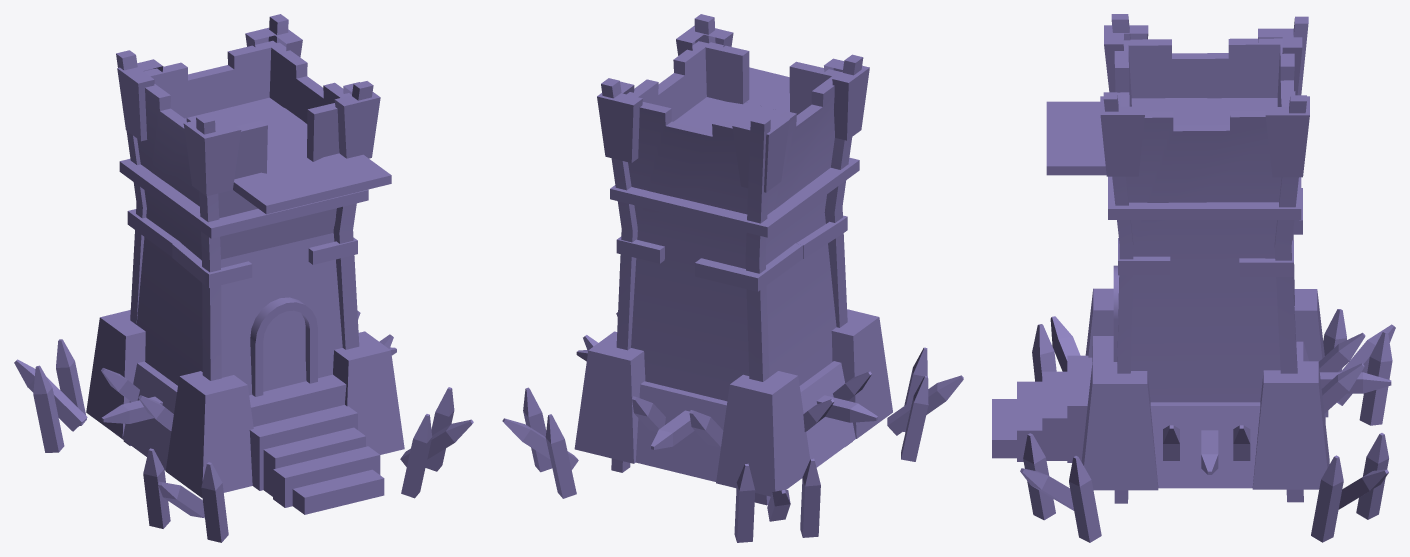
The model's file is Tower_model01.fbx.
The picture shows the model from 3 angles, left to right: view 1: azimuth 30°, elevation 25°; view 2: azimuth 150°, elevation 25°; view 3: azimuth 270°, elevation 25°; orthographic projection. The views are drawn at different scales.
Parts seen in each view (by area): view 1: pCube34, pCube9, pCube44, pCube8, pCube24, pCube10, pCube48, pCube71, pCube83, pCube3, pCube2, pCube88 (+24 smaller); view 2: pCube34, pCube10, pCube11, pCube14, pCube24, pCube47, pCube9, pCube46, pCube13, pCube48, pCube81, pCube29 (+21 smaller); view 3: pCube34, pCube8, pCube11, pCube12, pCube44, pCube24, pCube46, pCube45, pCube82, pCube81, pCube71, pCube87 (+29 smaller).
Part boxes in pixels (bbox=[...]): pCube34: bbox=[136, 40, 351, 395]; pCube9: bbox=[165, 371, 253, 498]; pCube44: bbox=[233, 153, 391, 214]; pCube8: bbox=[333, 331, 404, 454]; pCube24: bbox=[119, 159, 368, 238]; pCube10: bbox=[86, 310, 145, 437]; pCube48: bbox=[196, 115, 221, 380]; pCube71: bbox=[185, 97, 309, 169]; pCube83: bbox=[183, 120, 241, 196]; pCube3: bbox=[249, 405, 357, 490]; pCube2: bbox=[249, 374, 346, 426]; pCube88: bbox=[273, 446, 380, 507]; pCube34: bbox=[627, 41, 841, 401]; pCube10: bbox=[716, 371, 810, 496]; pCube11: bbox=[574, 331, 645, 463]; pCube14: bbox=[635, 381, 727, 481]; pCube24: bbox=[610, 157, 859, 237]; pCube47: bbox=[745, 116, 770, 505]; pCube9: bbox=[831, 309, 892, 438]; pCube46: bbox=[601, 78, 637, 472]; pCube13: bbox=[799, 361, 855, 467]; pCube48: bbox=[824, 54, 863, 446]; pCube81: bbox=[597, 81, 642, 162]; pCube29: bbox=[732, 115, 789, 192]; pCube34: bbox=[1114, 38, 1295, 402]; pCube8: bbox=[1081, 362, 1158, 490]; pCube11: bbox=[1252, 361, 1329, 489]; pCube12: bbox=[1150, 402, 1260, 488]; pCube44: bbox=[1046, 101, 1106, 175]; pCube24: bbox=[1108, 176, 1301, 219]; pCube46: bbox=[1274, 95, 1306, 502]; pCube45: bbox=[1103, 92, 1133, 503]; pCube82: bbox=[1100, 96, 1144, 176]; pCube81: bbox=[1265, 96, 1309, 177]; pCube71: bbox=[1131, 98, 1277, 125]; pCube87: bbox=[1042, 371, 1067, 460].
Size of the model in its own units: 7.25 by 8.68 by 7.72.
